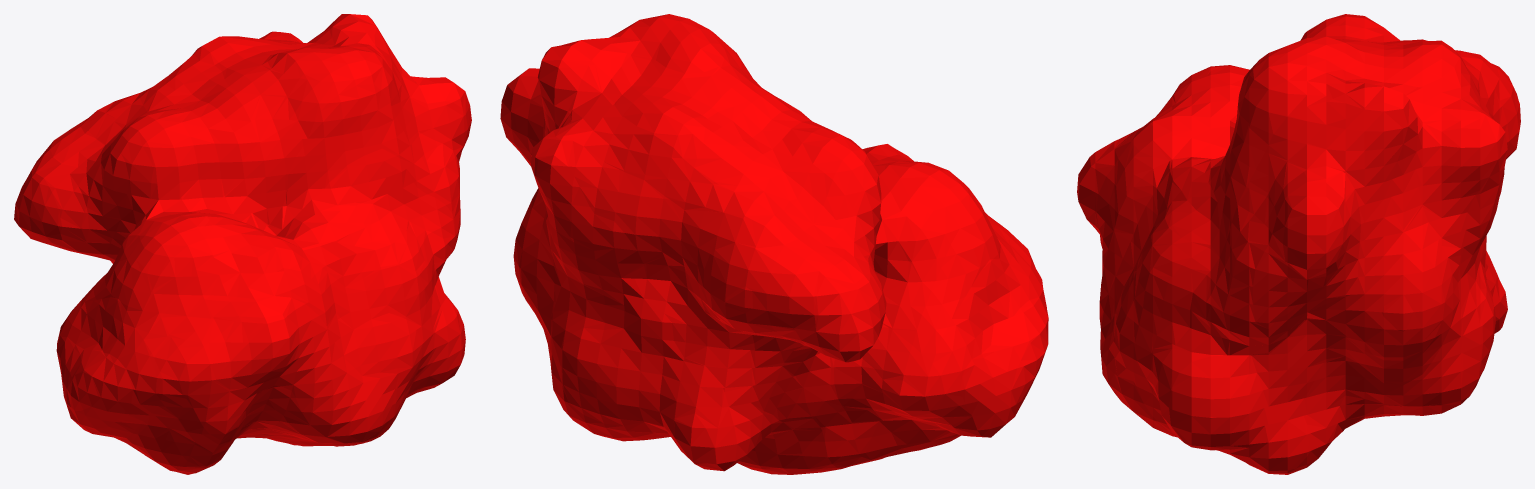
File: anmK_coarse.dae
3 views of the same model, side by side, from view 1: azimuth 30°, elevation 25°; view 2: azimuth 150°, elevation 25°; view 3: azimuth 270°, elevation 25° (orthographic). The views are drawn at different scales.
Visible parts, largest first — view 1: anmK; view 2: anmK; view 3: anmK.
Boxes of the visible parts, x1=… form: anmK: x1=14, y1=14, x2=471, y2=474; anmK: x1=500, y1=14, x2=1048, y2=474; anmK: x1=1077, y1=14, x2=1520, y2=474.
Size of the model in its own units: 65.53 by 52.43 by 51.28.
